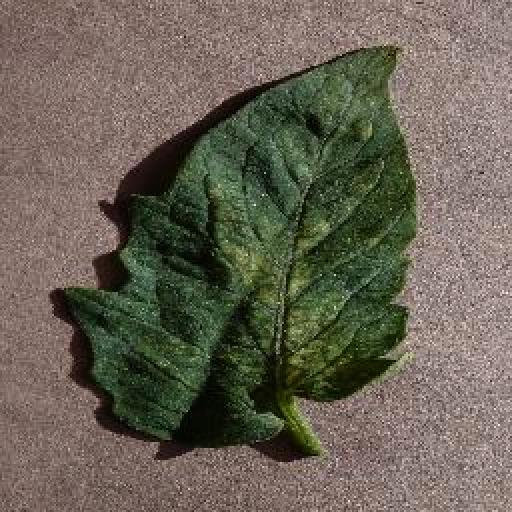disease_tomato: (62, 44, 419, 450)
